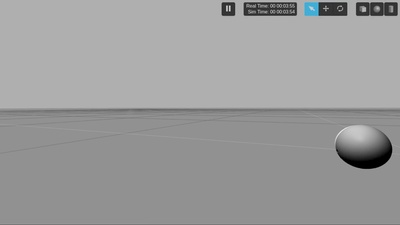mira_robot: (334, 124, 393, 169)
